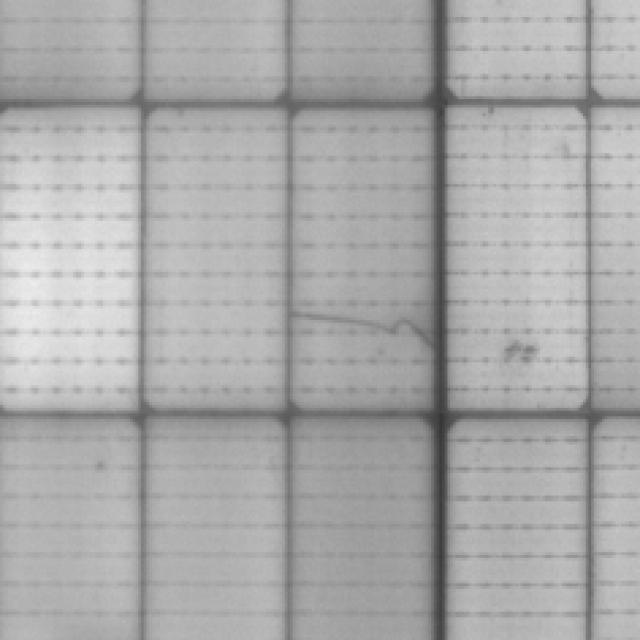CRACK: (292, 296, 442, 364)
